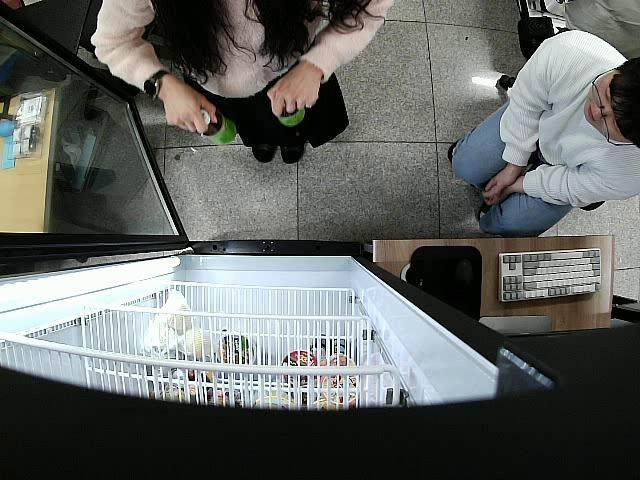19_17cha: (195, 106, 239, 150), (272, 86, 306, 127)
